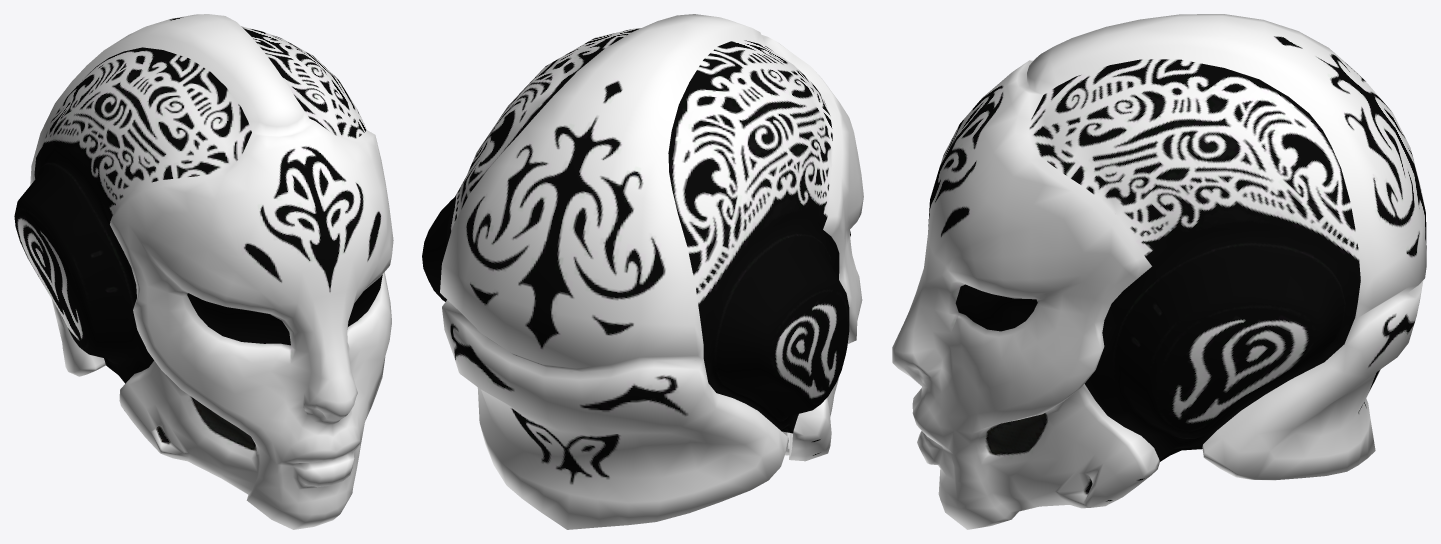
The model's file is SurvivorMale_Head_Helmet_AssassinOutfit_LOD0.glb.
The picture shows the model from 3 angles, left to right: view 1: azimuth 30°, elevation 25°; view 2: azimuth 150°, elevation 25°; view 3: azimuth 270°, elevation 25°; orthographic projection. The views are drawn at different scales.
Parts seen in each view (by area): view 1: Hoodie; view 2: Hoodie; view 3: Hoodie.
Part boxes in pixels (left/top/right/bottom): Hoodie: left=14, top=14, right=393, bottom=529; Hoodie: left=422, top=14, right=863, bottom=529; Hoodie: left=892, top=14, right=1426, bottom=529.
Size of the model in its own units: 0.2107 by 0.2725 by 0.2661.
Materials: 1 (1 with a texture image).
